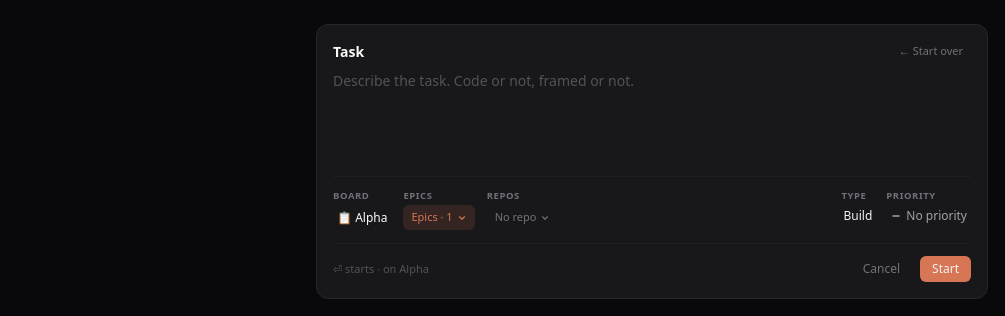
Test case: NewTask — board, epics, repos › hides Epics for a board without epics, and drops the epics picked on the previous board
This screenshot has width=1005, height=316.
expect the text "EPICS" is shown: met, box [403,189,432,202]
Click the button titled "Click to change board": point(362, 218) [333,205,391,231]
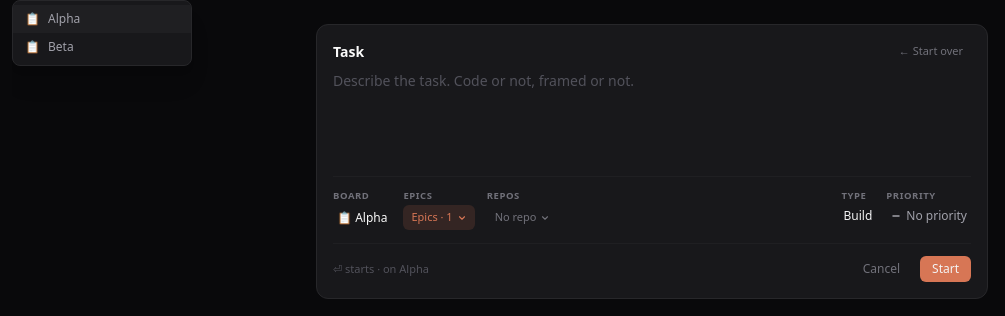
Click the text "Beta": point(61, 47) [48,39,74,55]
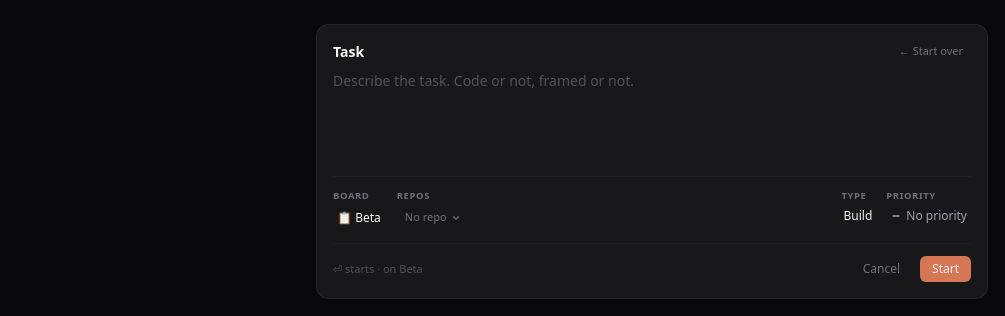
expect the text "EPICS" is gone: met
